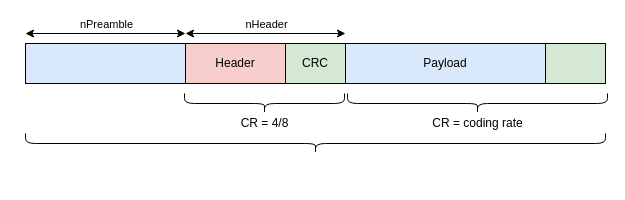
Some shapes in this 625 by 200 pixel diagram are drawn without their labels. Each missing label, with the box of its shape:
Payload CRC: (544, 42, 606, 84)
Preamble: (24, 42, 186, 84)
SF = Spreading Factor: (24, 132, 606, 154)
